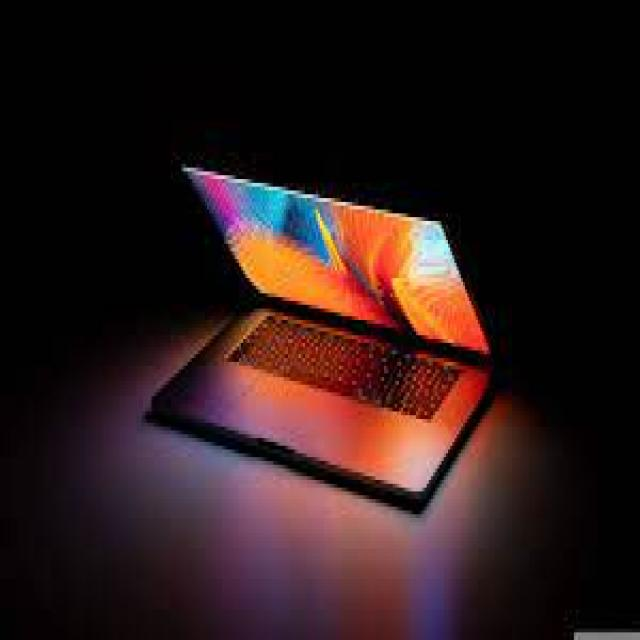others: (141, 133, 514, 526)
